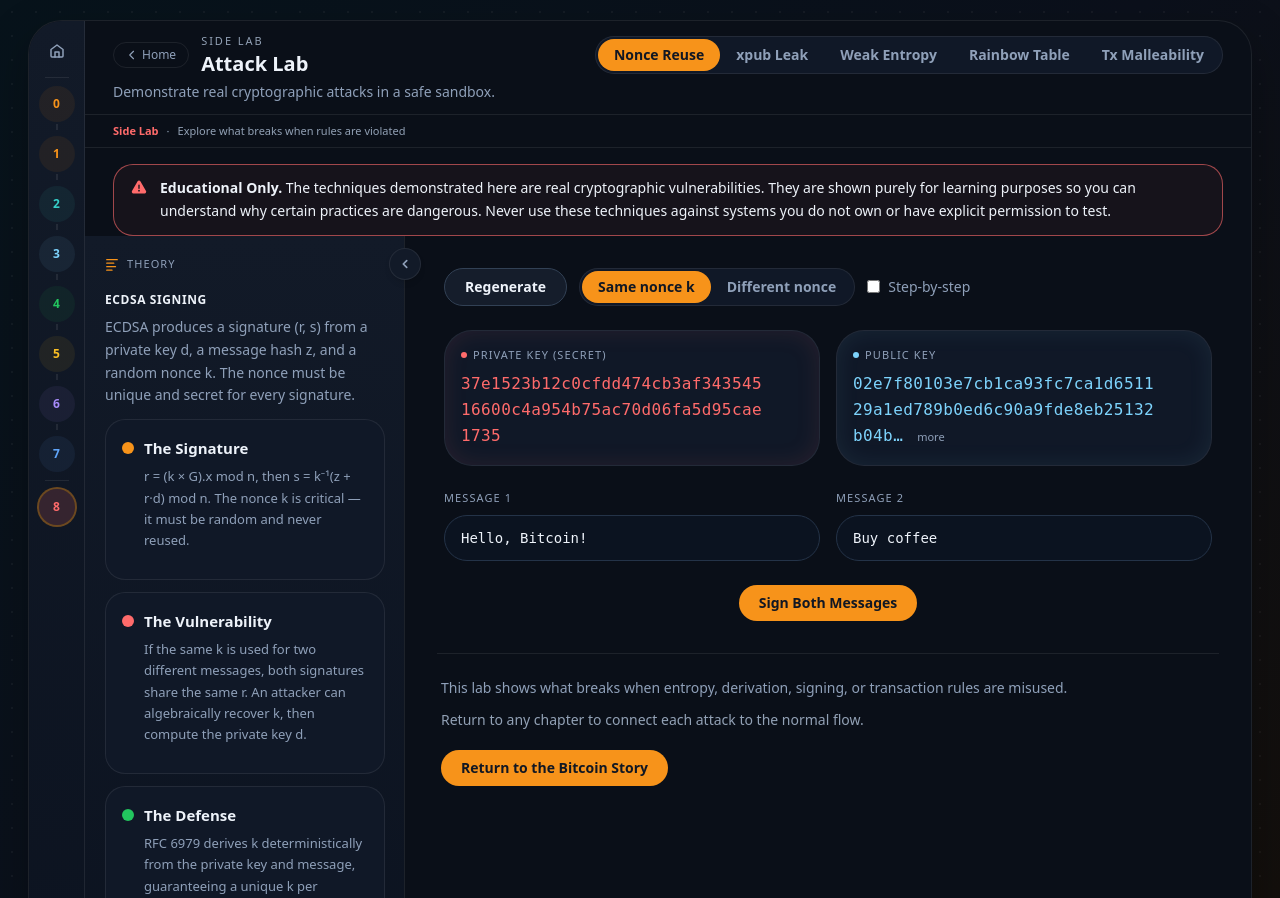
Test: AttackLab › Sign Both Messages produces signature display with same-nonce badge
Click the button "Sign Both Messages". click: [828, 602]
box: top-left (739, 584), bottom-right (917, 620)
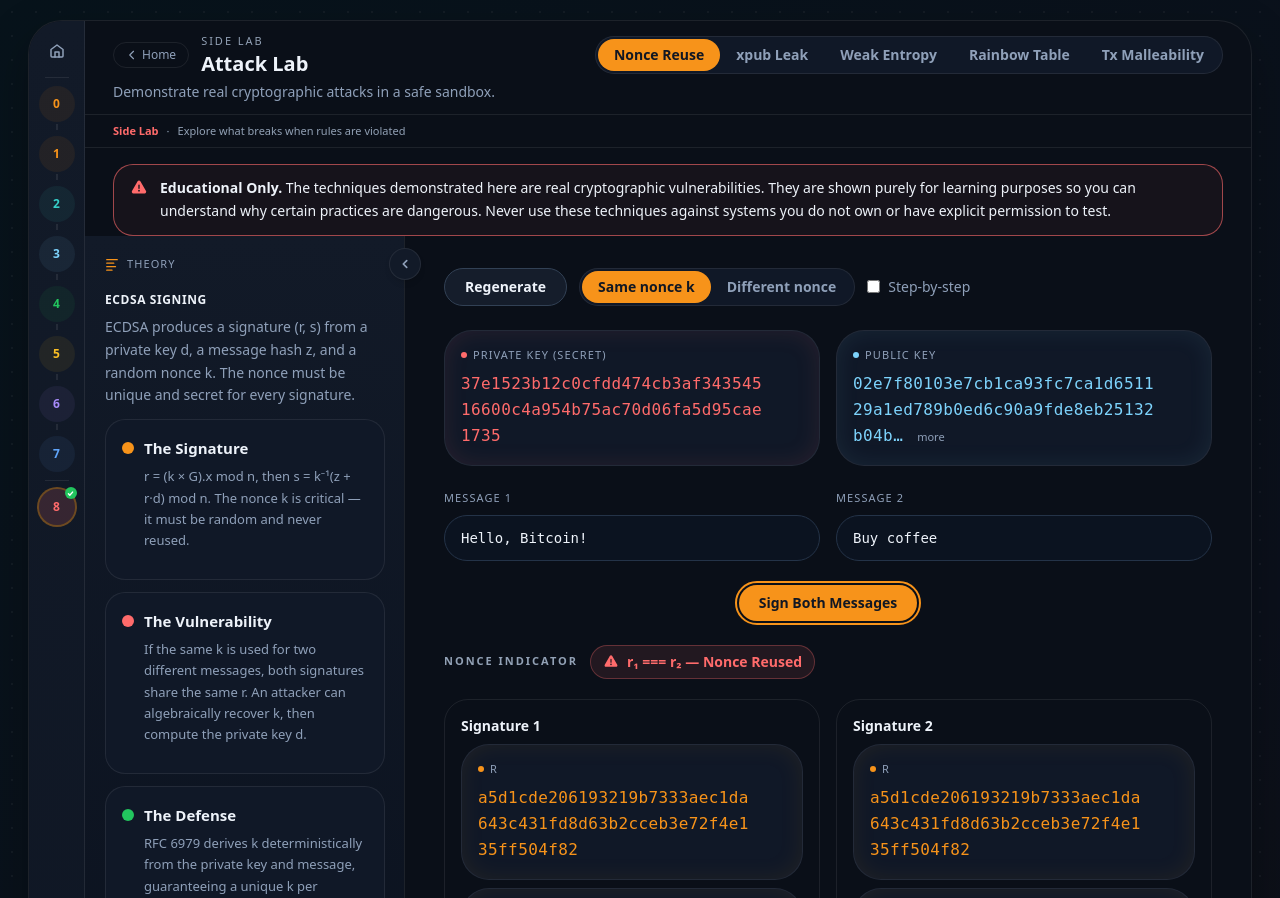
Check: the text "Signature 1" is shown, box top-left (461, 716), bottom-right (541, 734)
Check: the text "Signature 2" is shown, box top-left (853, 716), bottom-right (933, 734)
